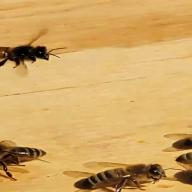Bee: (59, 160, 180, 192), (0, 138, 52, 184), (0, 39, 57, 70)
